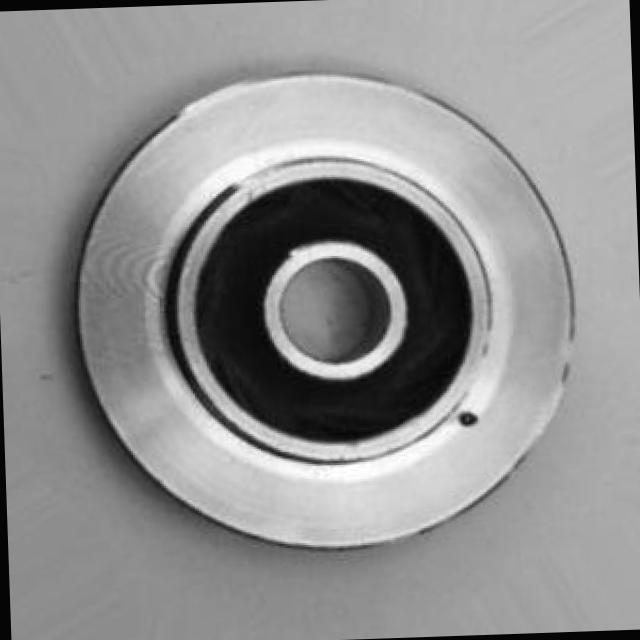Defect: (451, 404, 486, 437)
